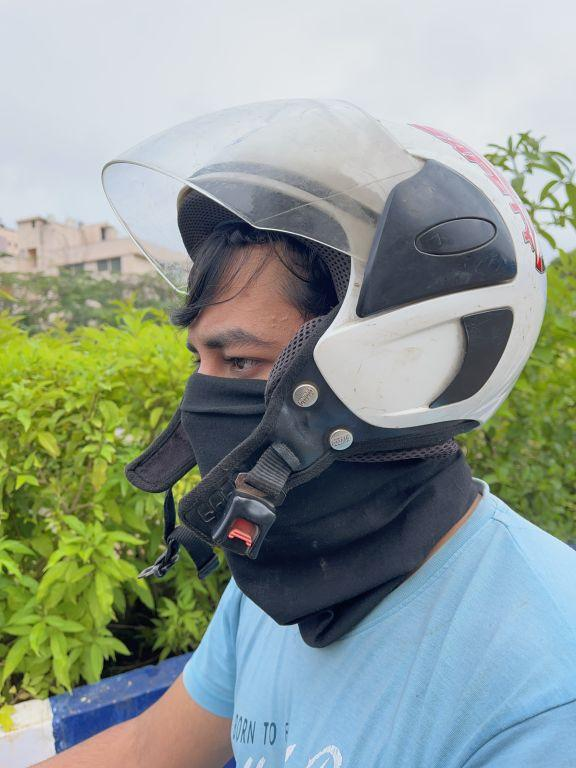helmet: (92, 84, 553, 563)
